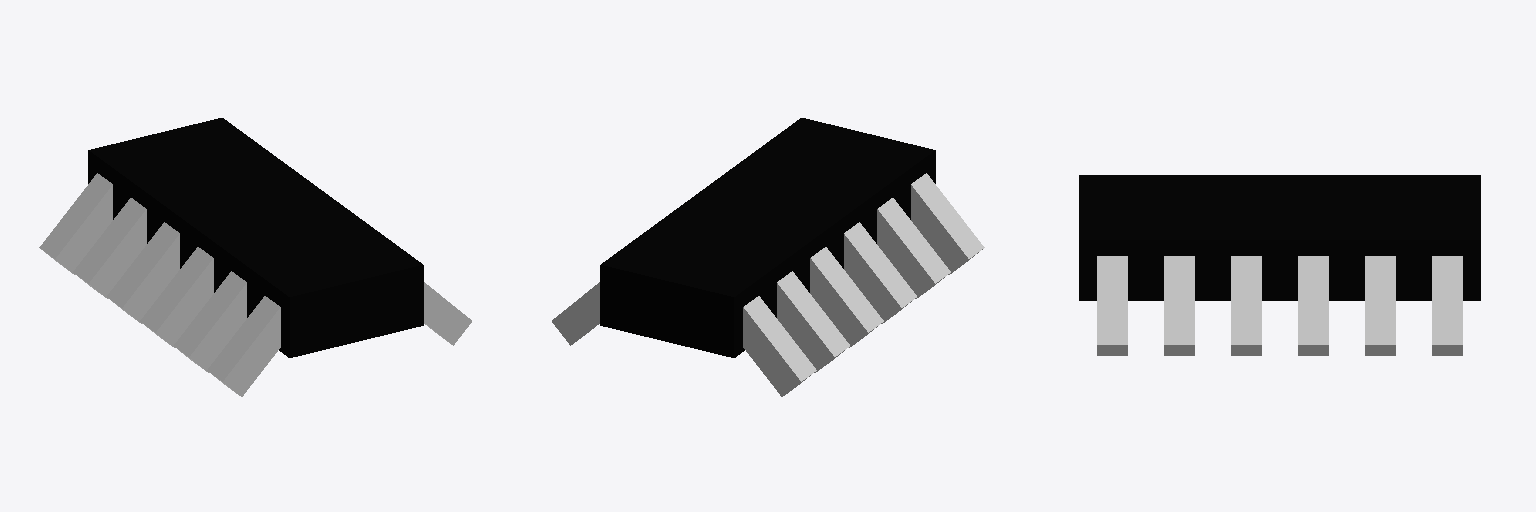
Rendered from bug.obj.
The picture shows the model from 3 angles: view 1: azimuth 30°, elevation 25°; view 2: azimuth 150°, elevation 25°; view 3: azimuth 270°, elevation 25°; orthographic projection.
Visible parts, largest first — view 1: Body, RightLeg6, RightLeg2, RightLeg4, RightLeg1, RightLeg5, RightLeg3, LeftLeg6; view 2: Body, RightLeg1, RightLeg5, RightLeg3, RightLeg6, RightLeg2, RightLeg4, LeftLeg1; view 3: Body, LeftLeg6, LeftLeg1, LeftLeg2, LeftLeg3, LeftLeg4, LeftLeg5.
Part boxes in pixels (x1,y1,x2,y2): Body: (88, 118, 423, 357); RightLeg6: (207, 296, 280, 396); RightLeg2: (73, 198, 146, 298); RightLeg4: (140, 247, 213, 347); RightLeg1: (39, 173, 112, 274); RightLeg5: (174, 271, 246, 372); RightLeg3: (107, 222, 179, 323); LeftLeg6: (424, 282, 471, 345); Body: (600, 118, 935, 357); RightLeg1: (743, 296, 816, 396); RightLeg5: (877, 198, 950, 298); RightLeg3: (810, 247, 883, 347); RightLeg6: (911, 173, 984, 274); RightLeg2: (777, 271, 849, 372); RightLeg4: (844, 222, 916, 323); LeftLeg1: (552, 282, 599, 345); Body: (1079, 175, 1480, 300); LeftLeg6: (1097, 256, 1127, 355); LeftLeg1: (1432, 256, 1462, 355); LeftLeg2: (1365, 256, 1395, 355); LeftLeg3: (1298, 256, 1328, 355); LeftLeg4: (1231, 256, 1261, 355); LeftLeg5: (1164, 256, 1194, 355).
Bounding box in the file's own units: 1.16 × 0.43 × 1.61.